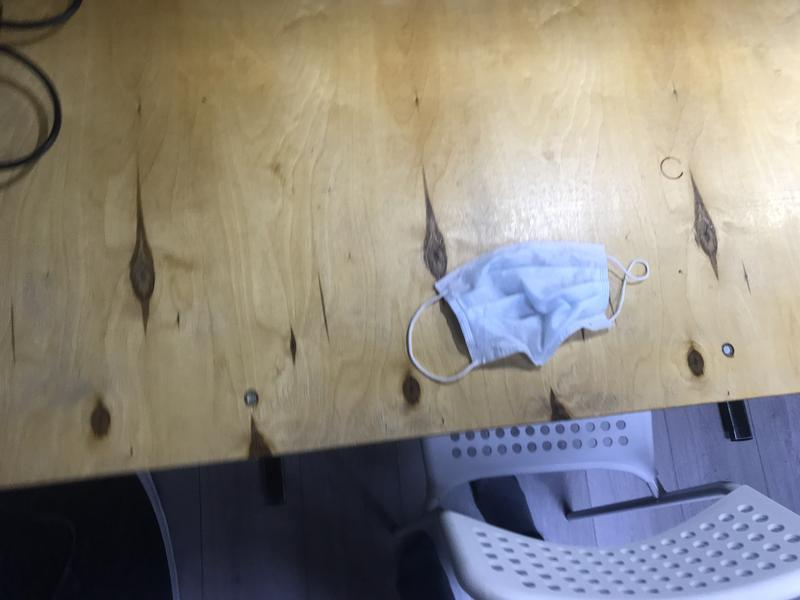medical_mask: (408, 242, 649, 384)
